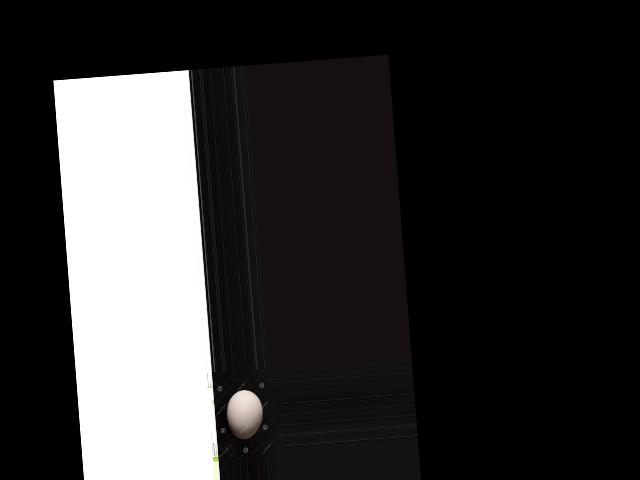egg: (224, 388, 264, 440)
